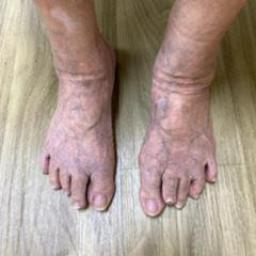Dorsal View -Both Feet-: (26, 22, 236, 225)
